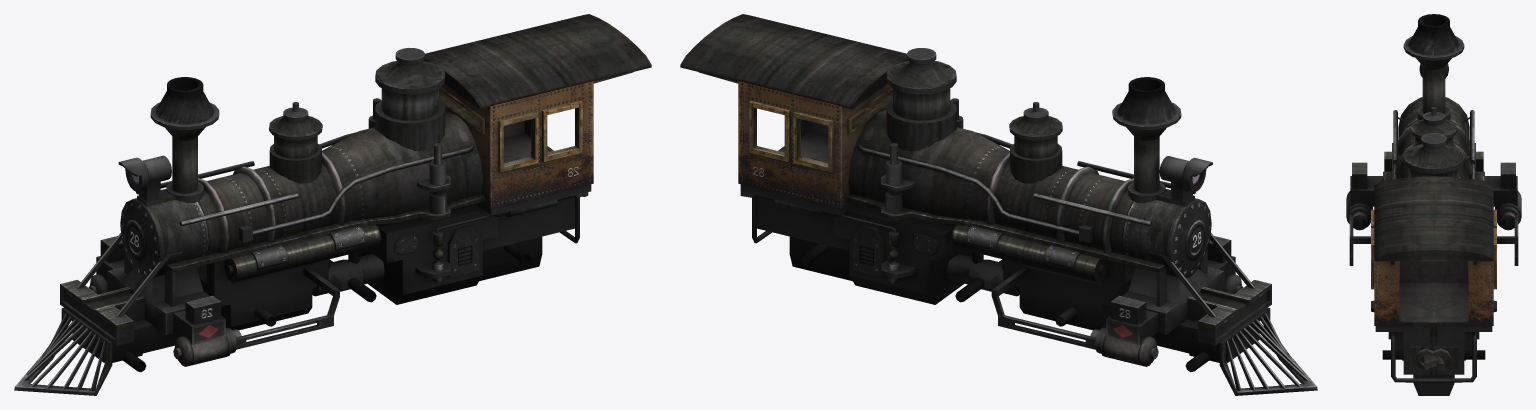
Rendered from Locomotora.obj.
3 views of the same model, side by side, from view 1: azimuth 30°, elevation 25°; view 2: azimuth 150°, elevation 25°; view 3: azimuth 270°, elevation 25° (orthographic). The views are drawn at different scales.
Parts seen in each view (by area): view 1: Cube.001_0_Material.001; view 2: Cube.001_0_Material.001; view 3: Cube.001_0_Material.001.
Boxes of the visible parts, box(x1,y1,x2,y2) form: Cube.001_0_Material.001: box(14, 14, 651, 395); Cube.001_0_Material.001: box(680, 14, 1317, 395); Cube.001_0_Material.001: box(1346, 14, 1521, 395).
Size of the model in its own units: 48 by 20.09 by 13.79.
